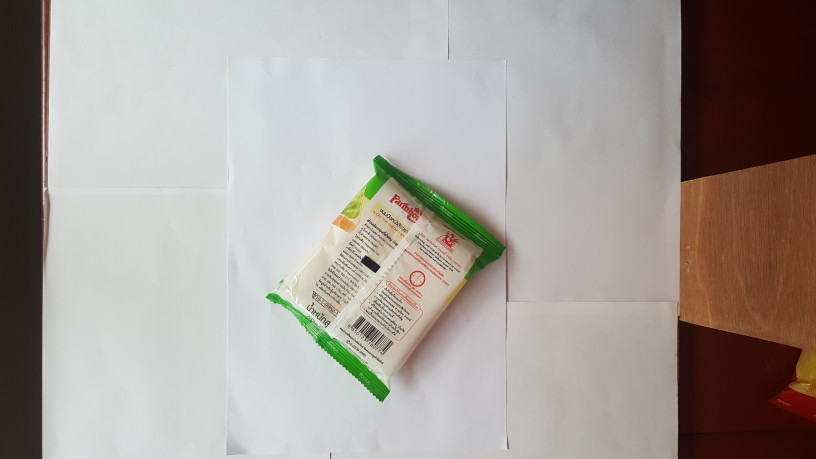farmhouse-bread-pandan: (266, 145, 507, 407)
